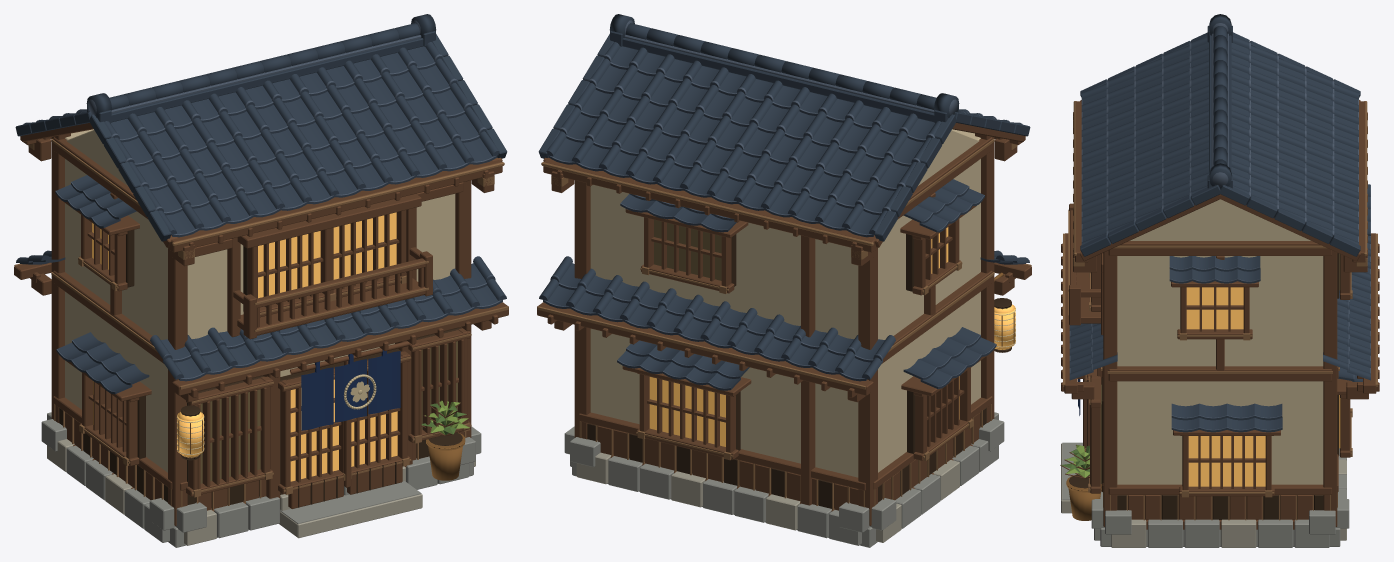
3 views of the same model, side by side, from view 1: azimuth 30°, elevation 25°; view 2: azimuth 150°, elevation 25°; view 3: azimuth 270°, elevation 25° (orthographic). The views are drawn at different scales.
Parts seen in each view (by area): view 1: Kyoto_Machiya_Villa_2_geometry; view 2: Kyoto_Machiya_Villa_2_geometry; view 3: Kyoto_Machiya_Villa_2_geometry.
Boxes of the visible parts, x1,y1,x2,y2 form: Kyoto_Machiya_Villa_2_geometry: (14, 14, 508, 547); Kyoto_Machiya_Villa_2_geometry: (537, 14, 1031, 547); Kyoto_Machiya_Villa_2_geometry: (1060, 14, 1379, 547).
Size of the model in its own units: 0.99 by 1.08 by 0.8099.
